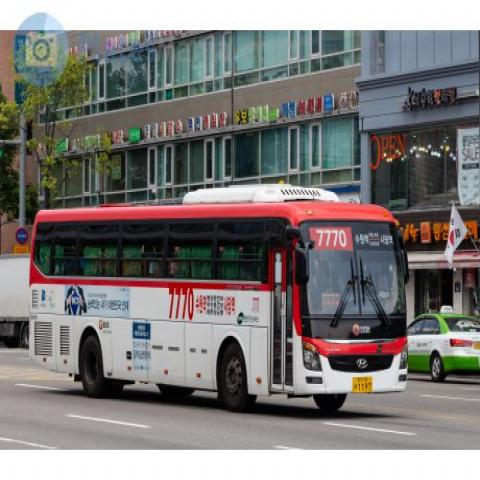LP: (346, 366, 378, 399)
